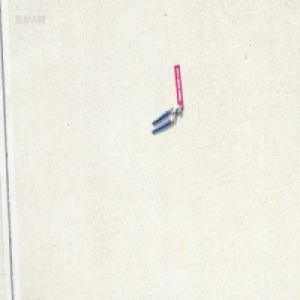Label: (173, 64, 183, 110)
Pliers: (150, 105, 181, 135)
